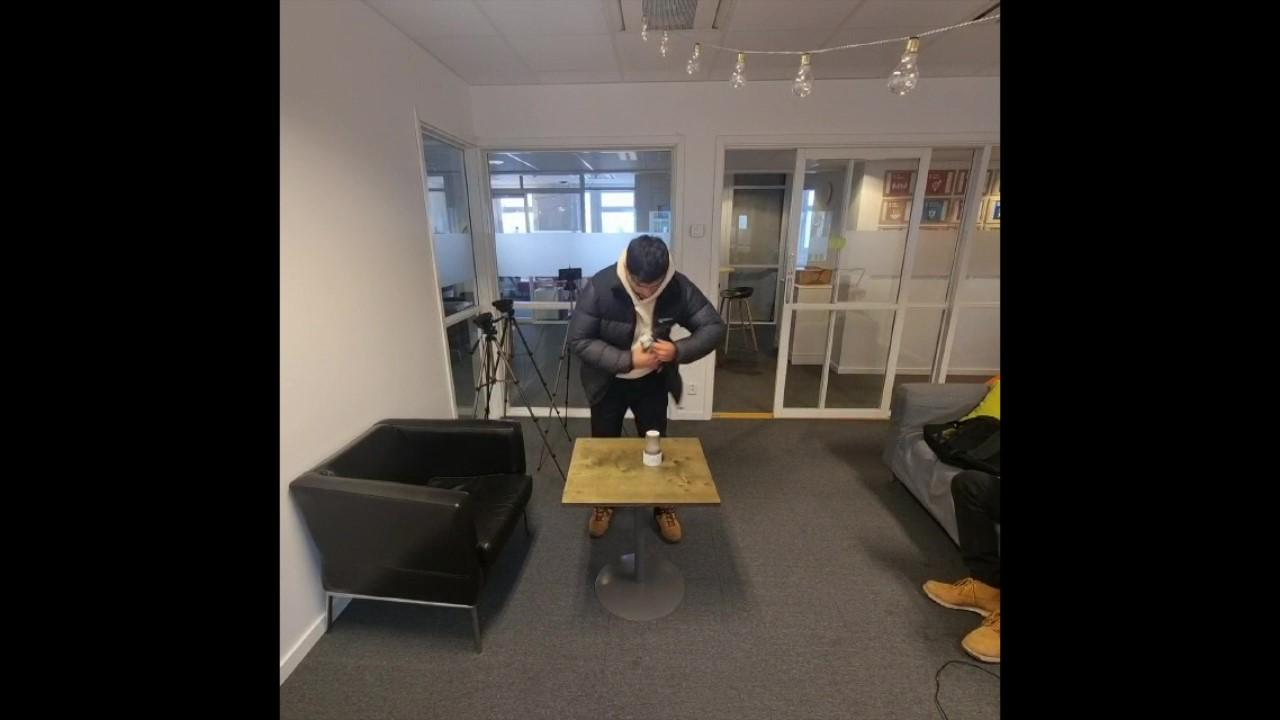shoplifting: (572, 234, 717, 539)
